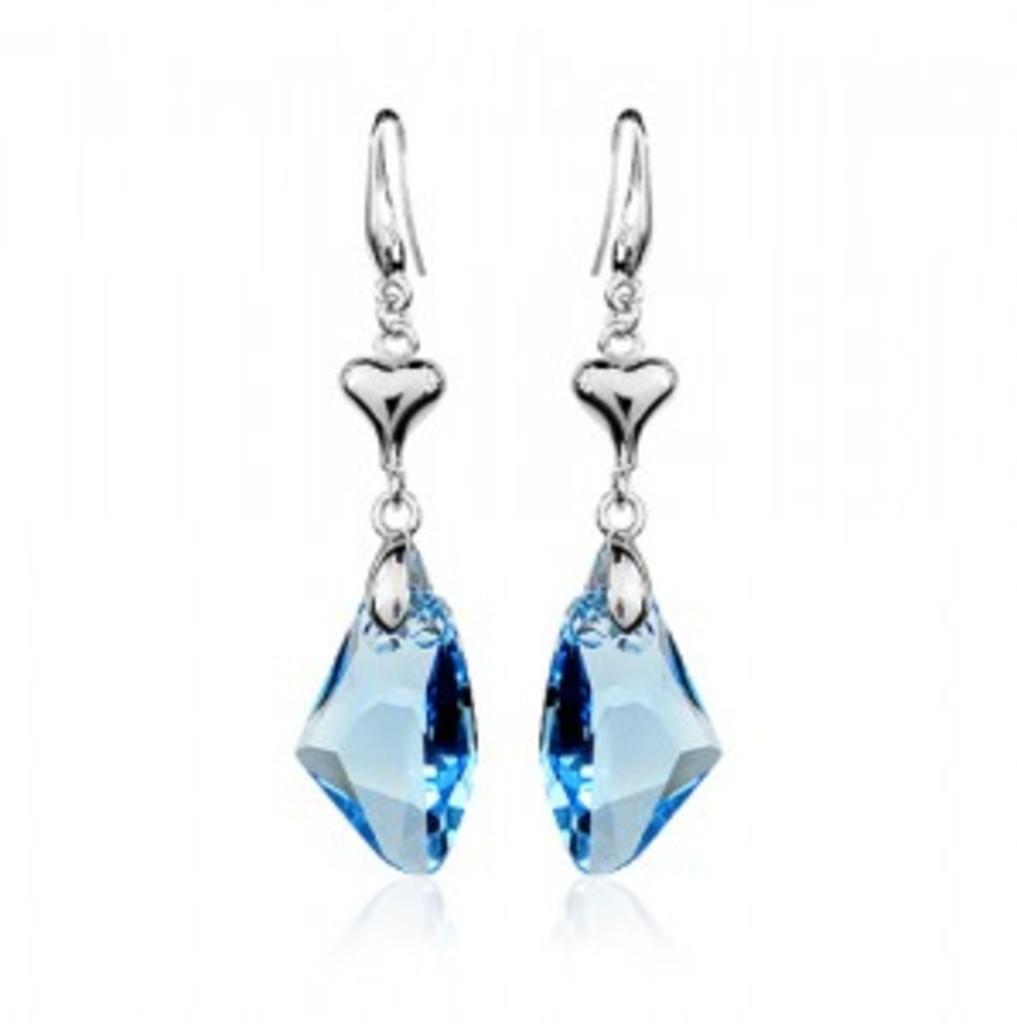earrings: (527, 91, 729, 879), (282, 104, 487, 872)
